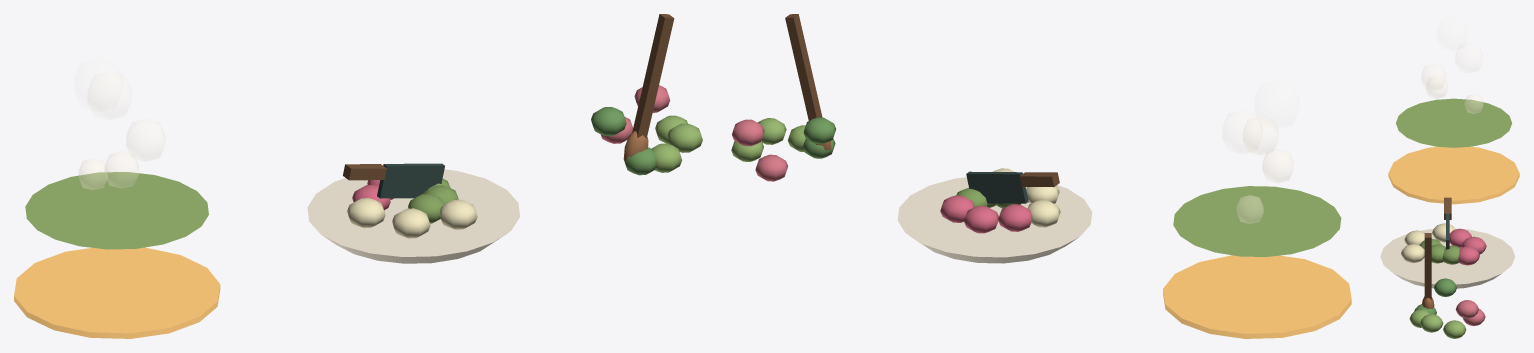
File: crispSalad-cooking.glb
3 renders of one model, left to right at view 1: azimuth 30°, elevation 25°; view 2: azimuth 150°, elevation 25°; view 3: azimuth 270°, elevation 25°, orthographic. The views are drawn at different scales.
Visible parts, largest first — view 1: Heat, KitchenFinishedDish, Liquid, Steam, Ingredients, Knife, Spoon; view 2: Heat, KitchenFinishedDish, Liquid, Ingredients, Steam, Knife, Spoon; view 3: Heat, KitchenFinishedDish, Liquid, Ingredients, Steam, Spoon, Knife.
Boxes of the visible parts, x1=… form: Heat: x1=14, y1=247, x2=220, y2=338; KitchenFinishedDish: x1=307, y1=169, x2=519, y2=263; Liquid: x1=25, y1=172, x2=208, y2=249; Steam: x1=79, y1=72, x2=165, y2=189; Ingredients: x1=591, y1=85, x2=702, y2=175; Knife: x1=343, y1=163, x2=444, y2=198; Spoon: x1=624, y1=14, x2=674, y2=161; Heat: x1=1163, y1=255, x2=1351, y2=338; KitchenFinishedDish: x1=897, y1=168, x2=1092, y2=263; Liquid: x1=1173, y1=186, x2=1341, y2=256; Ingredients: x1=731, y1=117, x2=835, y2=181; Steam: x1=1222, y1=111, x2=1293, y2=223; Knife: x1=966, y1=171, x2=1059, y2=203; Spoon: x1=785, y1=14, x2=831, y2=155; Heat: x1=1388, y1=146, x2=1519, y2=204; KitchenFinishedDish: x1=1380, y1=223, x2=1515, y2=288; Liquid: x1=1396, y1=98, x2=1512, y2=147; Ingredients: x1=1409, y1=278, x2=1485, y2=338; Steam: x1=1421, y1=43, x2=1482, y2=113; Spoon: x1=1422, y1=233, x2=1434, y2=308; Knife: x1=1444, y1=197, x2=1451, y2=249.
Bounding box in the file's own units: 3.09 × 1.21 × 0.892.
